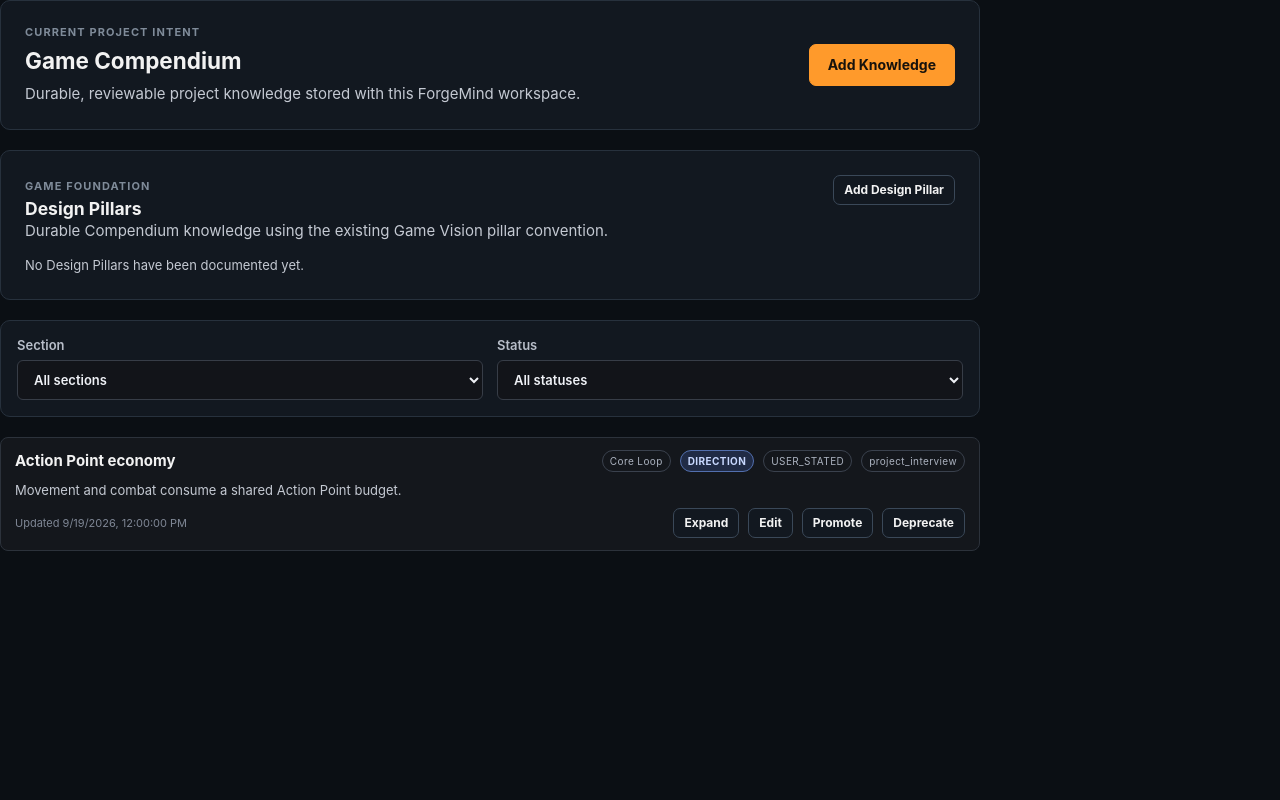
Test: Game Compendium › cancels editing and restores the normal compact-list state
Expected: the heading "Game Compendium" is shown, top-left (25, 47), bottom-right (242, 74)
Click the button "Edit" at (771, 524), box top-left (748, 508), bottom-right (793, 538)
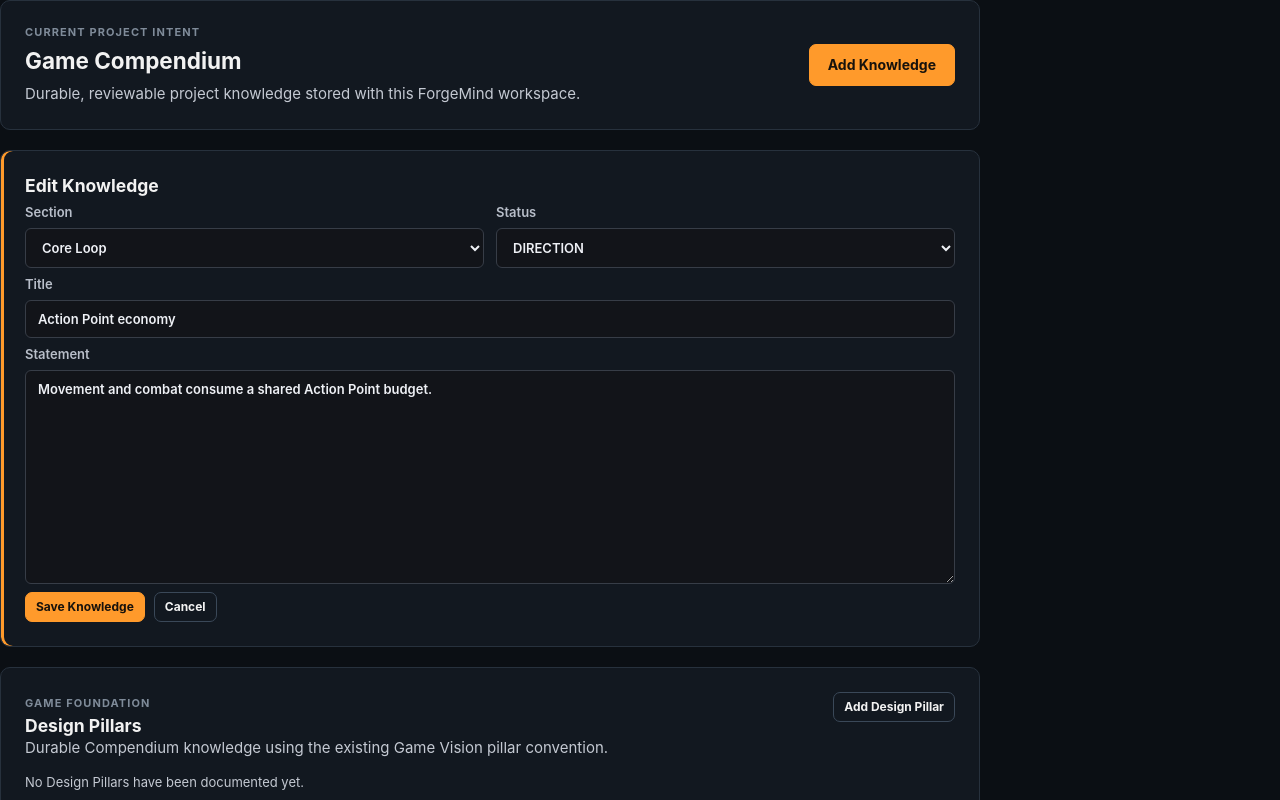
Click the button "Cancel" at (185, 607), box top-left (154, 592), bottom-right (217, 622)
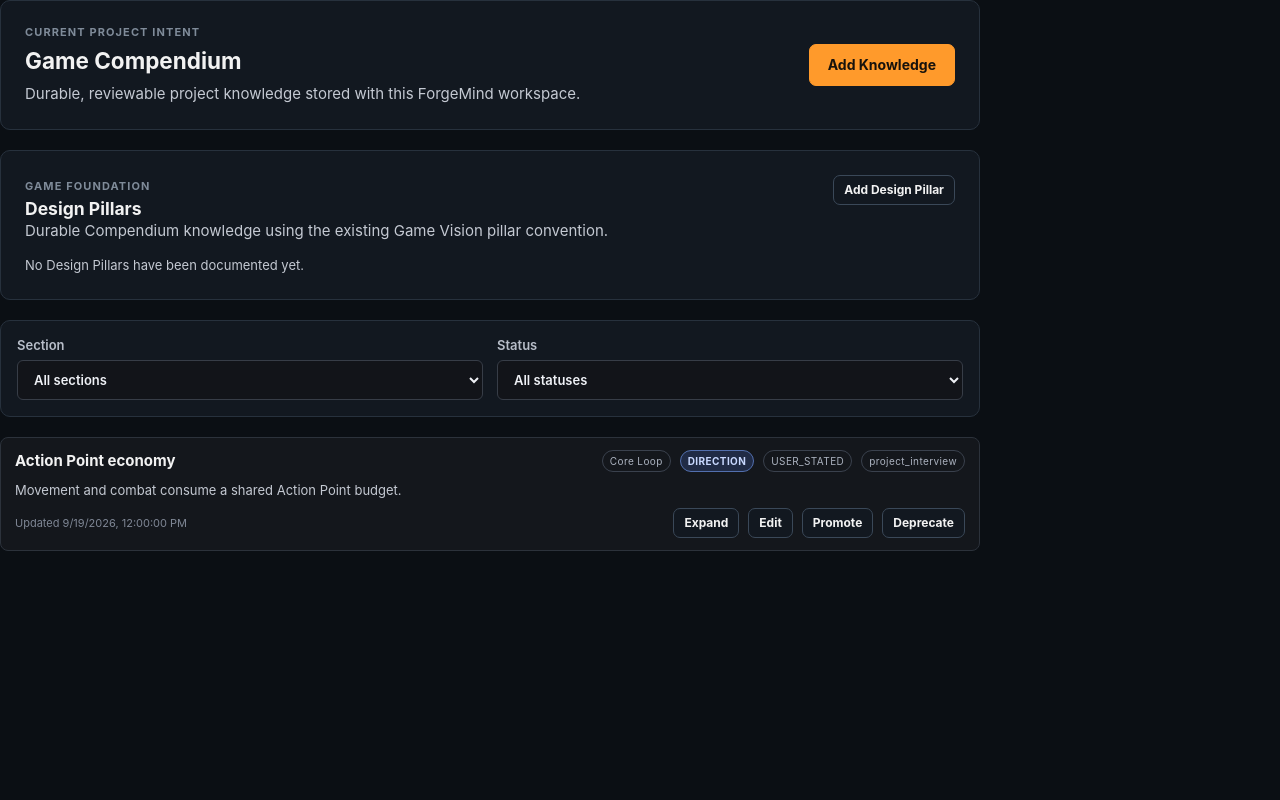
Expected: the heading "Edit Knowledge" is gone
